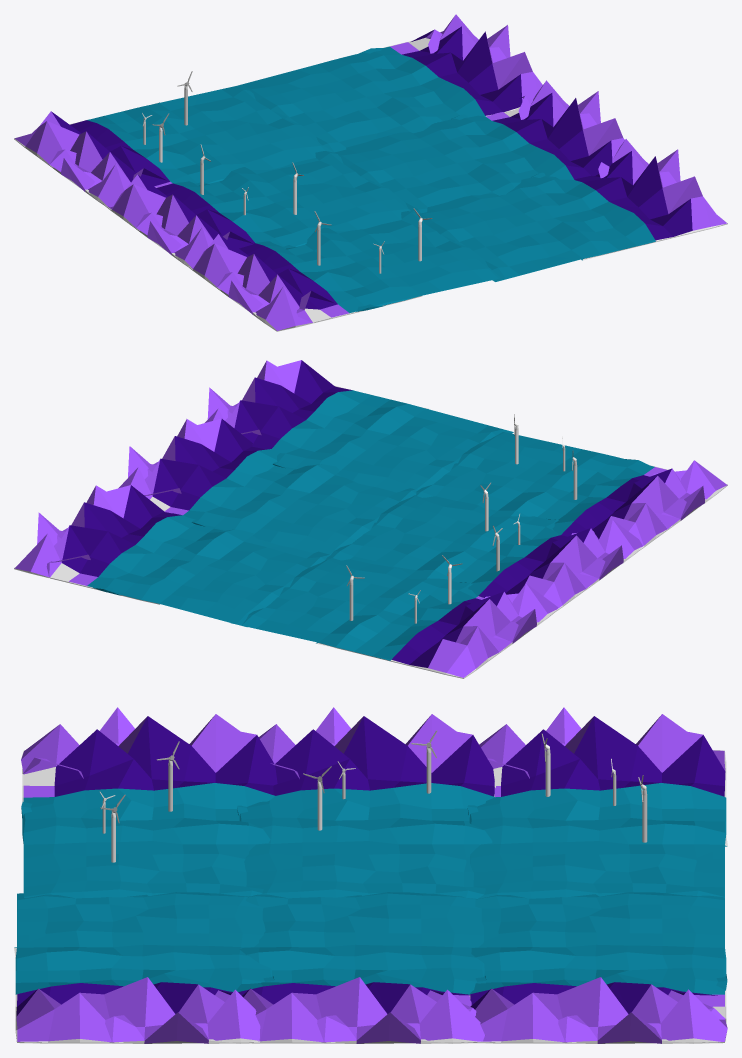
Rendered from Landscape.fbx.
3 renders of one model, top to bottom at view 1: azimuth 30°, elevation 25°; view 2: azimuth 150°, elevation 25°; view 3: azimuth 270°, elevation 25°, orthographic. The views are drawn at different scales.
Visible parts, largest first — view 1: Landscaoe.004, Landscaoe.006, Landscaoe.003, Landscaoe.002, Landscaoe.005, Landscaoe; view 2: Landscaoe.004, Landscaoe.002, Landscaoe.006, Landscaoe.005, Landscaoe, Landscaoe.003; view 3: Landscaoe.002, Landscaoe.003, Landscaoe, Landscaoe.004, Landscaoe.006, Landscaoe.005.
Part boxes in pixels (box(x1,y1,x2,y2)): Landscaoe.004: box(237, 14, 542, 152); Landscaoe.006: box(418, 139, 727, 281); Landscaoe.003: box(188, 211, 500, 331); Landscaoe.002: box(14, 85, 332, 207); Landscaoe.005: box(333, 80, 624, 213); Landscaoe: box(104, 151, 410, 268); Landscaoe.004: box(14, 485, 329, 627); Landscaoe.002: box(231, 555, 558, 678); Landscaoe.006: box(205, 360, 513, 492); Landscaoe.005: box(118, 418, 416, 555); Landscaoe: box(330, 495, 642, 611); Landscaoe.003: box(416, 432, 727, 550); Landscaoe.002: box(467, 707, 727, 898); Landscaoe.003: box(21, 707, 277, 898); Landscaoe: box(237, 707, 495, 898); Landscaoe.004: box(469, 892, 727, 1043); Landscaoe.006: box(14, 892, 274, 1043); Landscaoe.005: box(236, 892, 486, 1043).
Bounding box in the file's own units: 44918 × 5111 × 44423.
